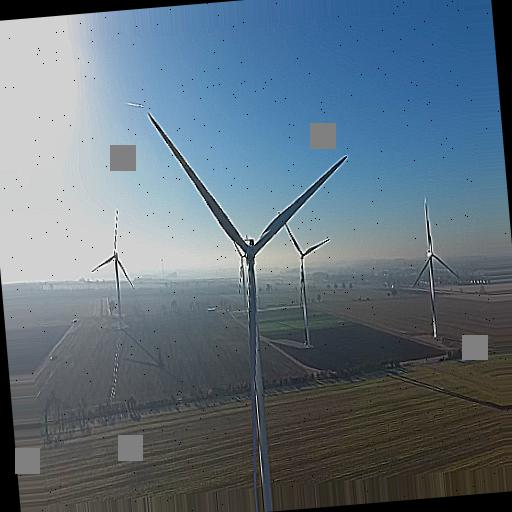wind turbine: (146, 112, 350, 497), (276, 211, 333, 348), (411, 197, 460, 338), (92, 207, 136, 331)
